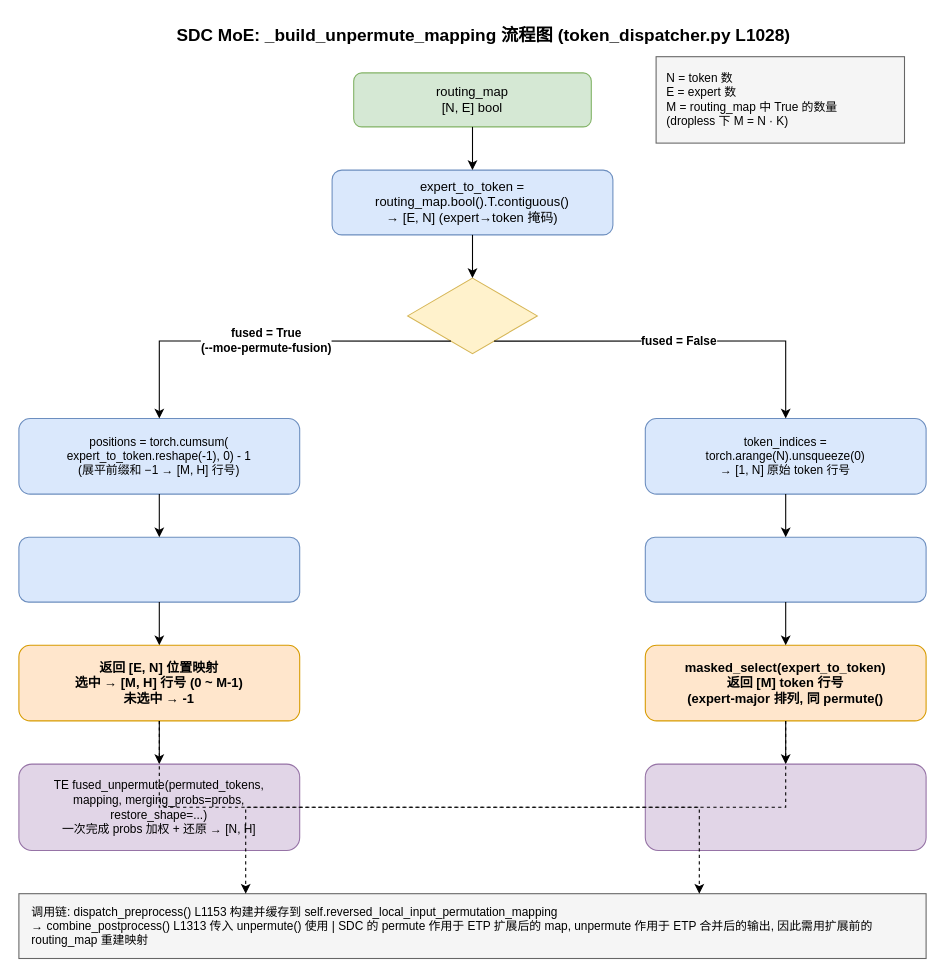
Image size: 945x977. Some labels were removed from this diagram. Here are the shapes that lost their labels. From the top down, the centre of each, then its label:
At point (472, 315): "fused ?".
At point (159, 569): "torch.where(expert_to_token, positions.reshape_as(...), -1)".
At point (785, 569): "token_indices.expand(E, -1) → [E, N] (expand 是视图广播, 不复制内存)".
At point (785, 806): "unpermute() 非融合分支 output.scatter_add_(0, mapping, [M, H]) → 还原 [N, H]".
